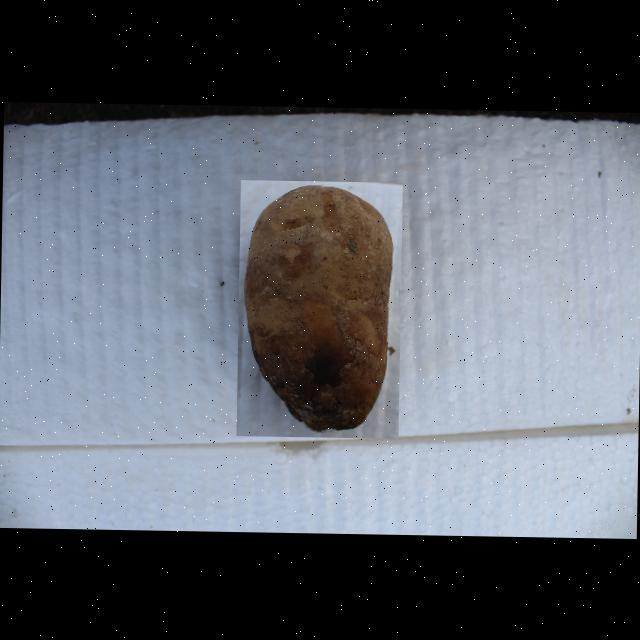Diseased-fungal potato: (236, 180, 402, 438)
